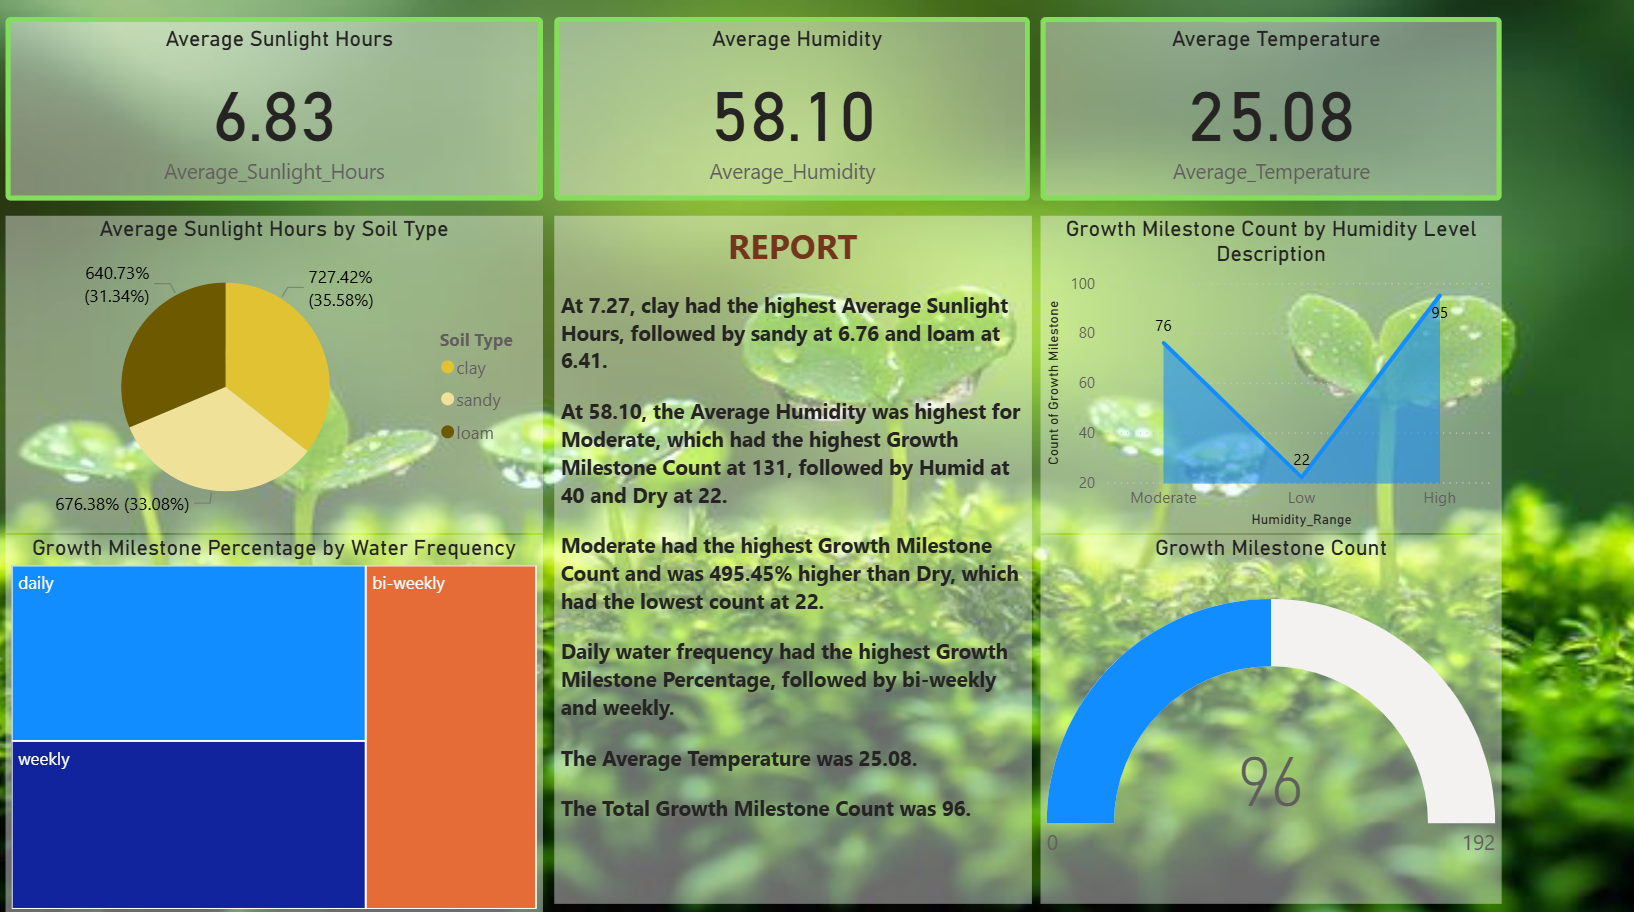

The page's visual inventory and layout, read from the dashboard file:
{"tool":"powerbi","page":{"name":"Report","canvas":[1280,720],"ordinal":1},"visuals":[{"type":"card","title":"Average Sunlight Hours","fields":{"Values":["plant_growth_data.Average_Sunlight_Hours"]},"box":[10,23.3,416.7,142.2],"z":0},{"type":"card","title":"Average Humidity","fields":{"Values":["plant_growth_data.Average_Humidity"]},"box":[435.6,23.3,368.9,142.2],"z":1000},{"type":"card","title":"Average Temperature","fields":{"Values":["plant_growth_data.Average_Temperature"]},"box":[812.2,23.3,357.8,142.2],"z":2000},{"type":"pieChart","title":"Average Sunlight Hours by Soil Type","fields":{"Category":["plant_growth_data.Soil Type"],"Y":["Avg(plant_growth_data.Sunlight Hours)"]},"box":[10,177.8,416.7,246.7],"z":3000},{"type":"treemap","title":"Growth Milestone Percentage by Water Frequency ","fields":{"Group":["plant_growth_data.Water Frequency"],"Values":["plant_growth_data.Growth_Milestone_Percentage"]},"box":[10,424.4,416.7,295.6],"z":4000},{"type":"areaChart","title":"Growth Milestone Count by Humidity Level Description","fields":{"Category":["plant_growth_data.Humidity_Level_Description"],"Y":["CountNonNull(plant_growth_data.Growth Milestone)"]},"box":[812.2,177.8,357.8,246.7],"z":5000},{"type":"gauge","title":"Growth Milestone Count","fields":{"Y":["plant_growth_data.Growth Milestone Count"]},"box":[812.2,424.4,357.8,286.7],"z":6000},{"type":"textbox","box":[435.6,177.8,370,533.3],"z":7000}]}

Visuals, with their boxes in screenshot pixels (x1, y1, x2, y2), scaled from the page's 1280x720 canvas onto the 1634x912 screenshot:
"Average Sunlight Hours" card: left=13, top=30, right=545, bottom=210
"Average Humidity" card: left=556, top=30, right=1027, bottom=210
"Average Temperature" card: left=1037, top=30, right=1494, bottom=210
"Average Sunlight Hours by Soil Type" pieChart: left=13, top=225, right=545, bottom=538
"Growth Milestone Percentage by Water Frequency " treemap: left=13, top=538, right=545, bottom=911
"Growth Milestone Count by Humidity Level Description" areaChart: left=1037, top=225, right=1494, bottom=538
"Growth Milestone Count" gauge: left=1037, top=538, right=1494, bottom=901
textbox: left=556, top=225, right=1028, bottom=901
